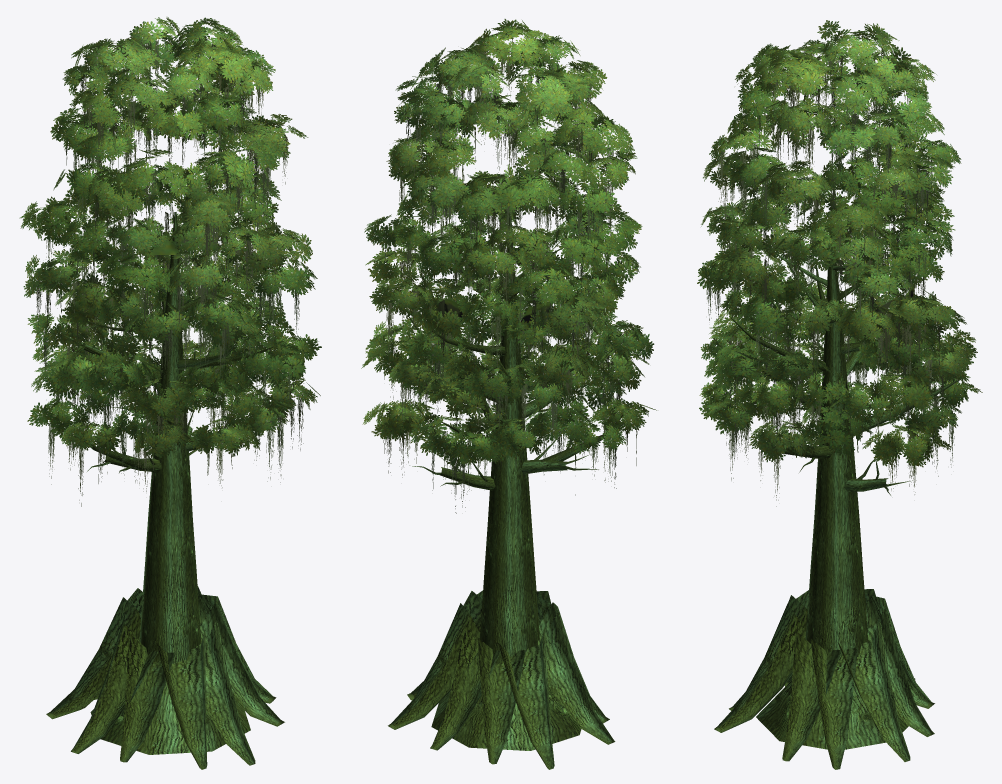
Rendered from mm6_deco_swptree2.glb.
3 renders of one model, left to right at view 1: azimuth 30°, elevation 25°; view 2: azimuth 150°, elevation 25°; view 3: azimuth 270°, elevation 25°, orthographic. The views are drawn at different scales.
Parts seen in each view (by area): view 1: Tree; view 2: Tree; view 3: Tree.
Boxes of the visible parts, box(x1,y1,x2,y2) form: Tree: box(19, 17, 321, 769); Tree: box(361, 19, 656, 769); Tree: box(697, 20, 982, 769).
Bounding box in the file's own units: 2.9 × 7.18 × 2.84.
Materials: 4 (4 with a texture image).
